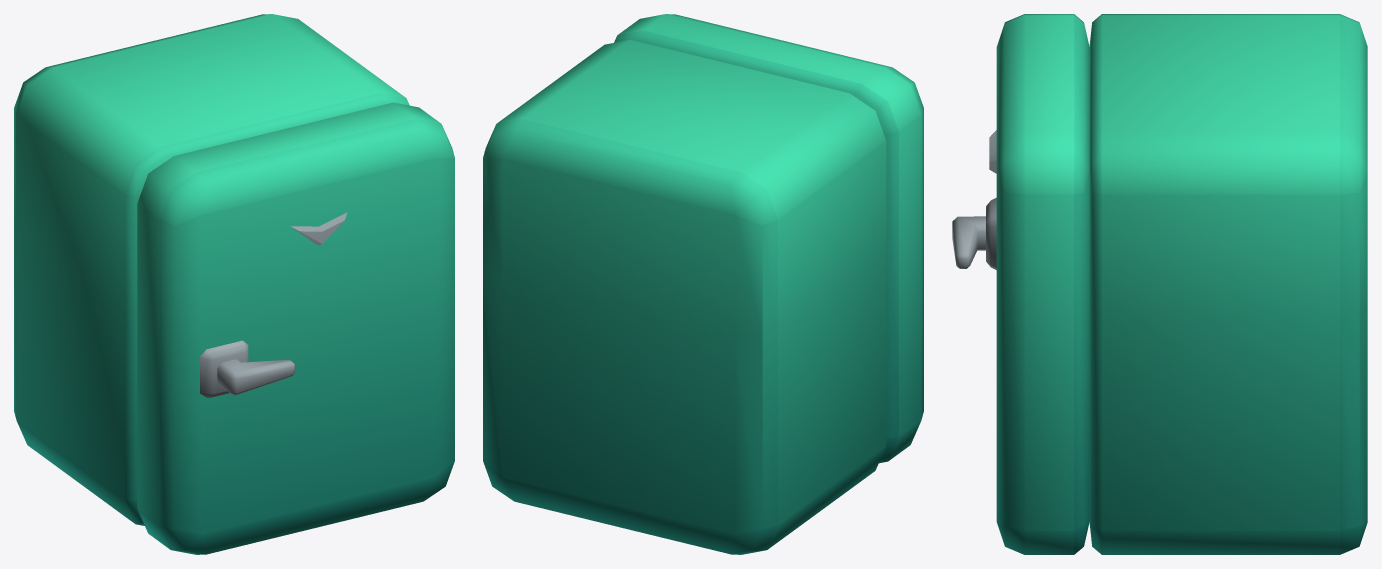
The model's file is fridge_b.glb.
3 renders of one model, left to right at view 1: azimuth 30°, elevation 25°; view 2: azimuth 150°, elevation 25°; view 3: azimuth 270°, elevation 25°, orthographic. The views are drawn at different scales.
Visible parts, largest first — view 1: fridge_B_door, fridge_B; view 2: fridge_B, fridge_B_door; view 3: fridge_B, fridge_B_door.
Part boxes in pixels (<box>): fridge_B_door: <box>137,102,454,554</box>; fridge_B: <box>14,14,409,525</box>; fridge_B: <box>483,39,886,554</box>; fridge_B_door: <box>614,14,923,463</box>; fridge_B: <box>1089,14,1367,554</box>; fridge_B_door: <box>952,14,1089,554</box>.
Size of the model in its own units: 2 by 2.5 by 2.24.
1 material, 1 textured.
